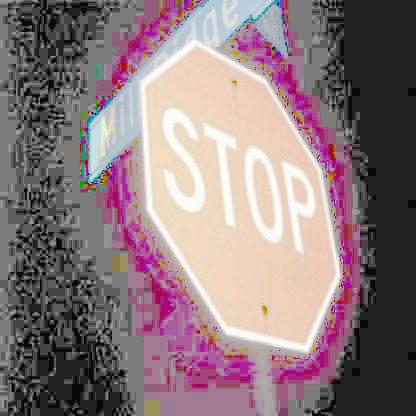Stop Sign: (135, 35, 343, 352)
